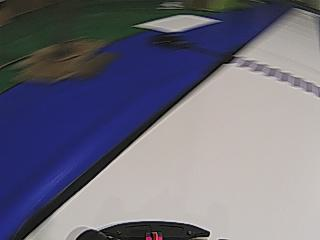CrossWalk: (224, 54, 318, 98)
